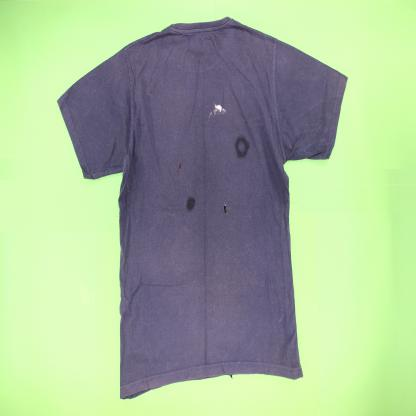stain: (205, 98, 231, 124), (232, 133, 250, 160), (221, 198, 232, 218), (185, 195, 196, 212), (175, 162, 182, 180)
